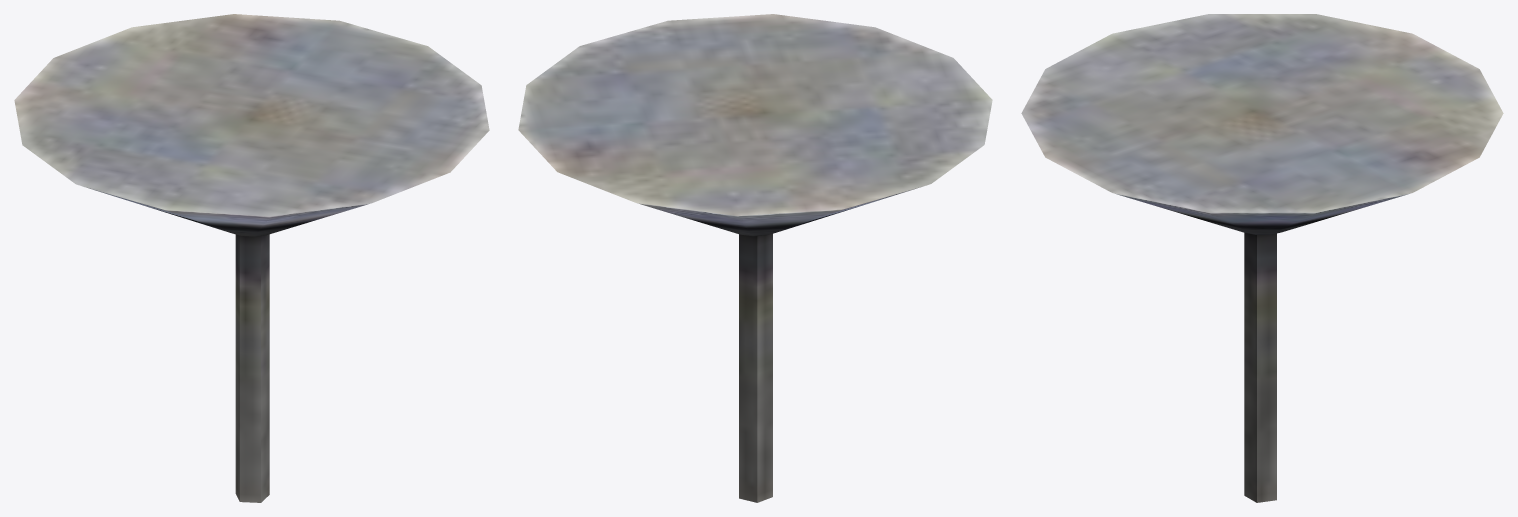
The model's file is roof_dish.glb.
3 views of the same model, side by side, from view 1: azimuth 30°, elevation 25°; view 2: azimuth 150°, elevation 25°; view 3: azimuth 270°, elevation 25° (orthographic).
Visible parts, largest first — view 1: roof_dish; view 2: roof_dish; view 3: roof_dish.
Part boxes in pixels (x1,y1,x2,y2): roof_dish: (14,14,489,502); roof_dish: (518,14,992,502); roof_dish: (1021,14,1503,502).
Bounding box in the file's own units: 0.7799 × 0.7 × 0.8.
Materials: 1 (1 with a texture image).
